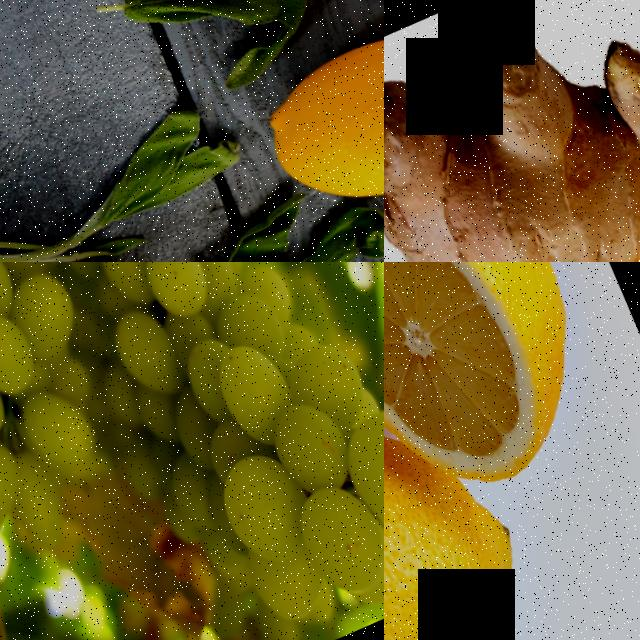ginger: (384, 0, 640, 262)
grapes: (0, 262, 384, 640), (0, 262, 192, 624)
lemon: (384, 262, 640, 502), (384, 423, 597, 640), (240, 0, 384, 245)
